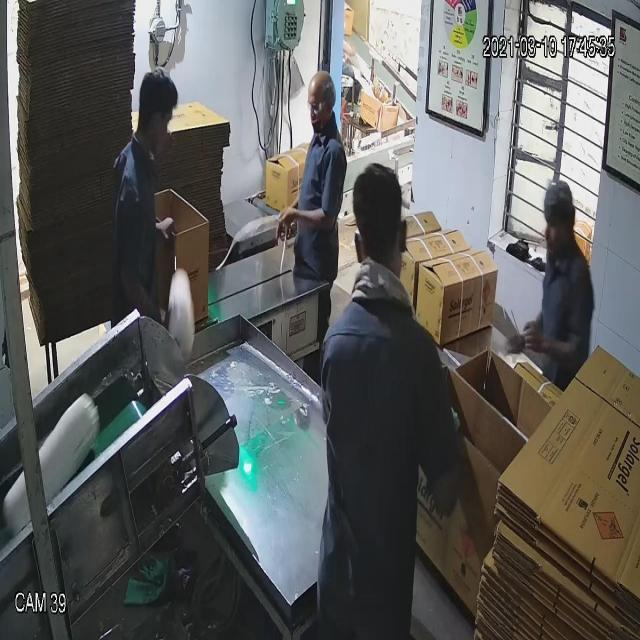No_Gloves: (56, 67, 544, 339)
